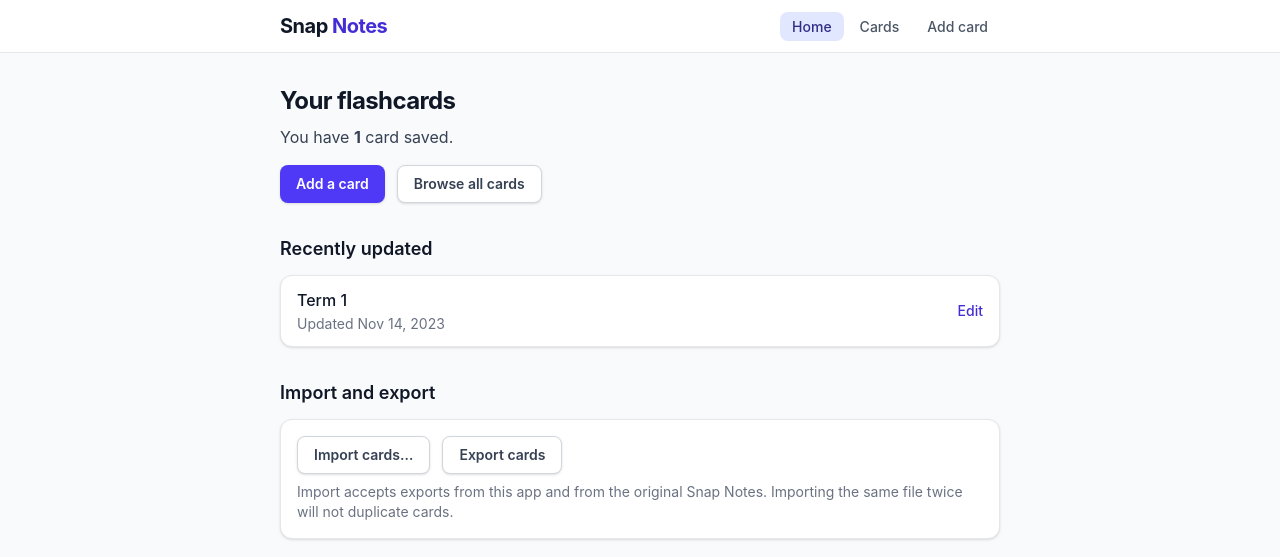
it: App › navigates between views through the main navigation
Click the link "Cards" at (879, 26), box [860,18,899,35]
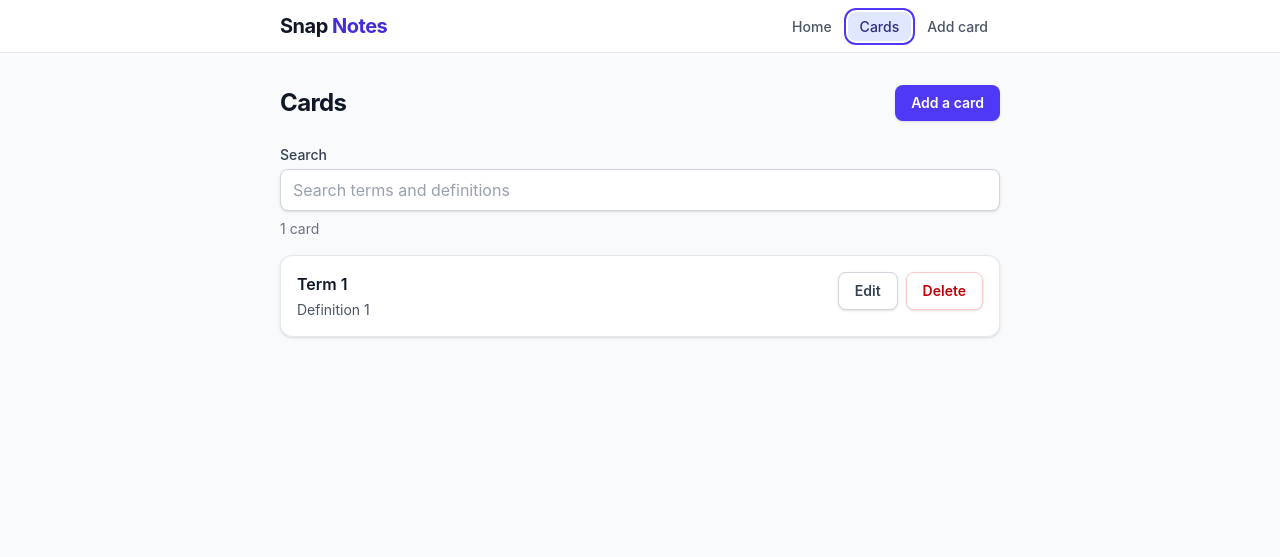
Check: the heading "Cards" is shown, box [280,87,346,119]
Click the link "Add card" at (958, 26), box [927,18,988,35]
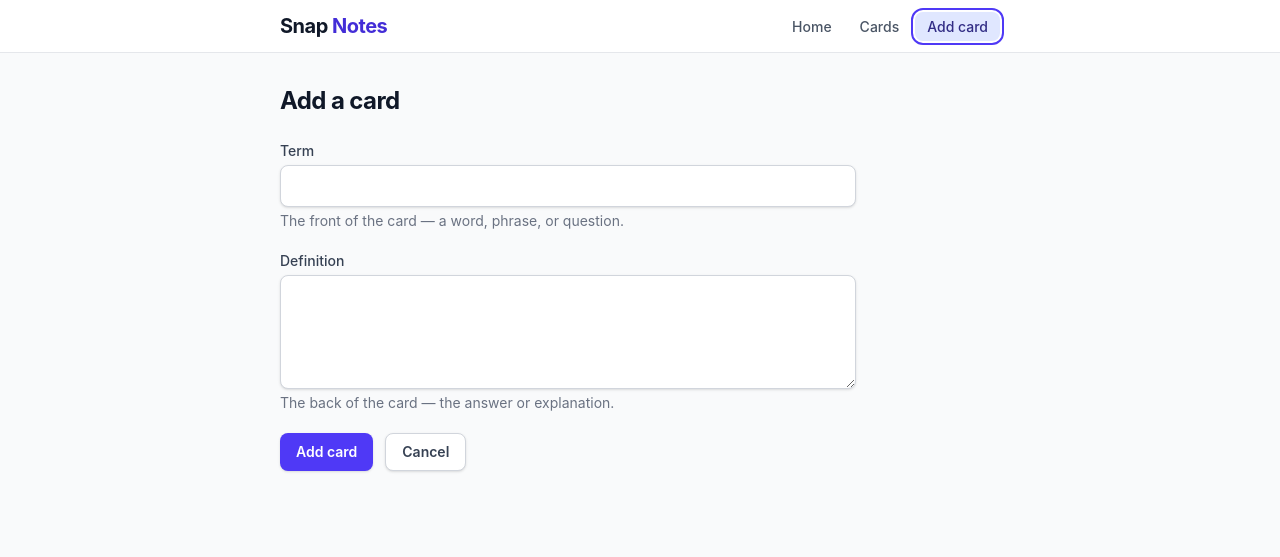
Check: the heading "Add a card" is shown, box [280,86,400,115]
Click the link "Home" at (812, 26), box [792,18,832,35]
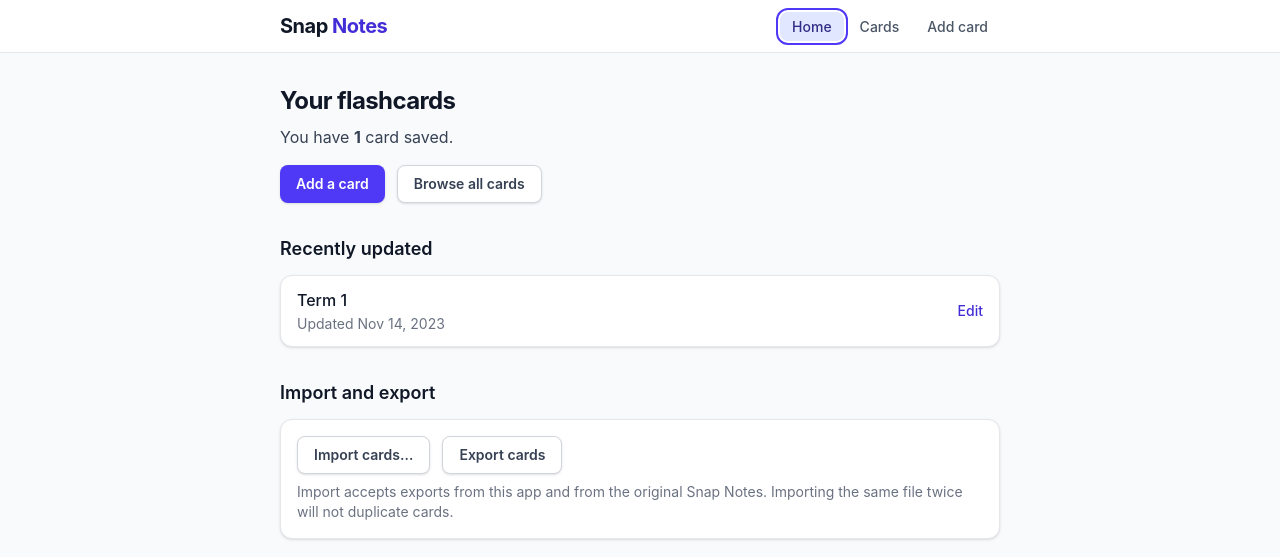
Check: the heading "Your flashcards" is shown, box [280,86,456,115]
